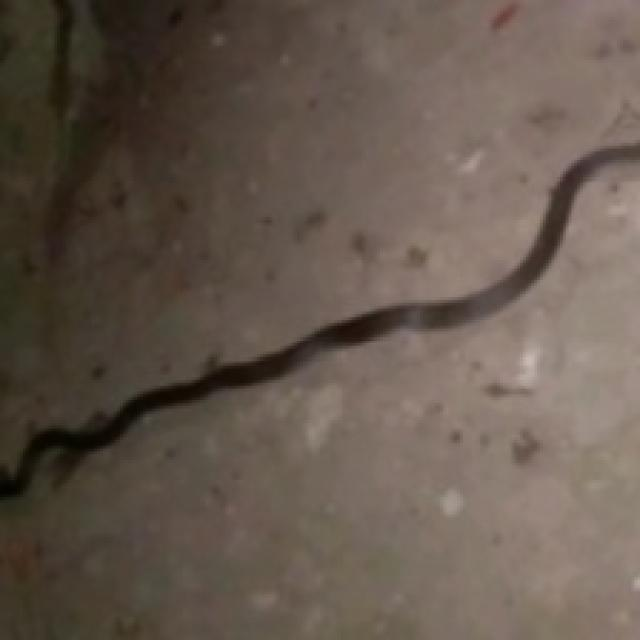king cobra: (0, 143, 637, 494)
